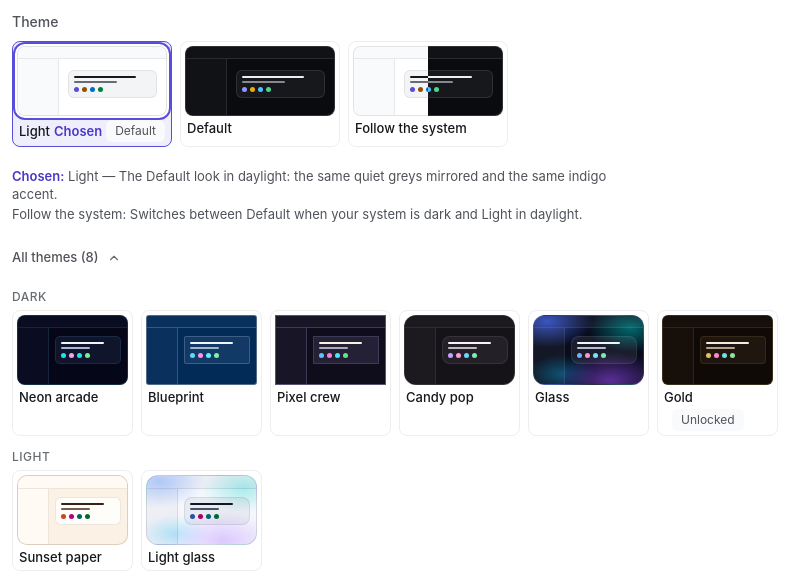
theme picker and the hidden themes › picking an unlocked hidden theme puts it on and tells the ledger it was tried
The width and height of the screenshot is (795, 588).
Click the radio button labelled "Gold Unlocked" at [662, 315], box [661,314,663,316]
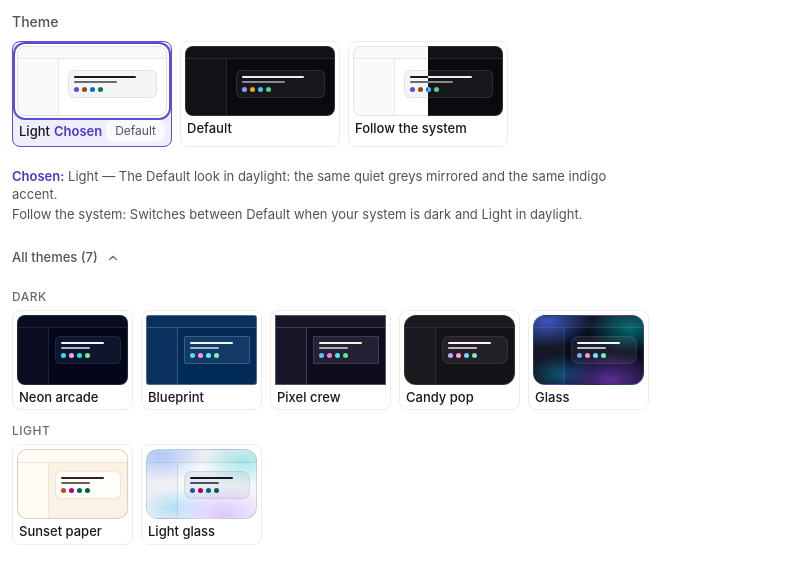
Expected: the radio button labelled "Gold" is gone
